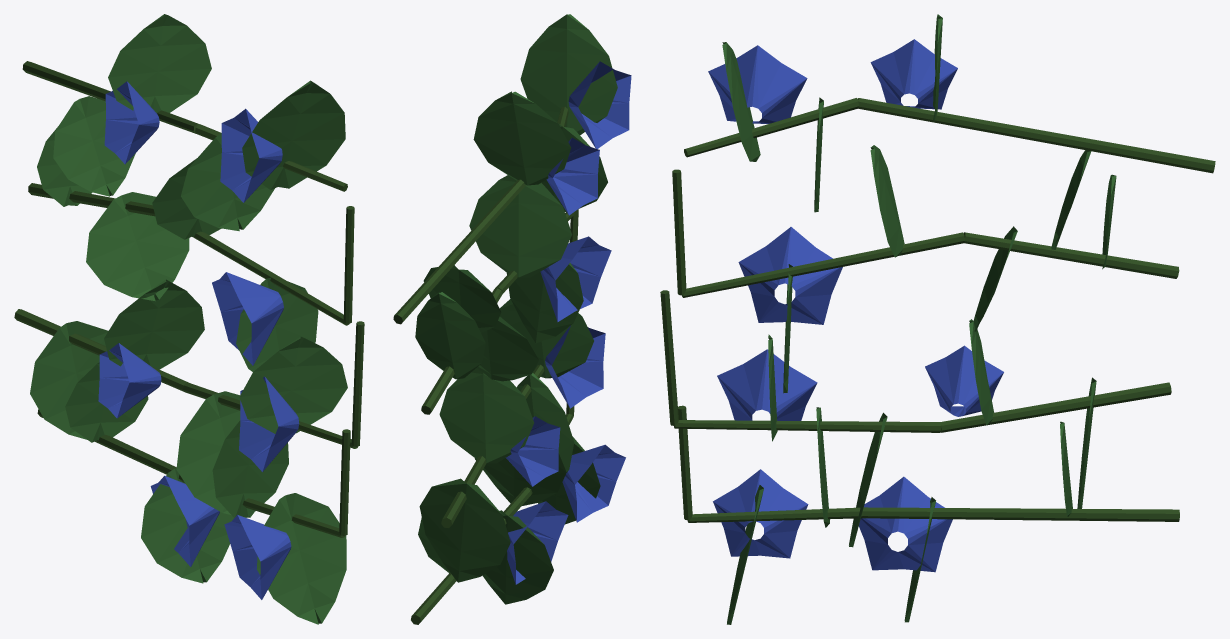
Rendered from VD_DwarfMorningGlory_A.obj.
3 renders of one model, left to right at view 1: azimuth 30°, elevation 25°; view 2: azimuth 150°, elevation 25°; view 3: azimuth 270°, elevation 25°, orthographic. The views are drawn at different scales.
Visible parts, largest first — view 1: VD_DwarfMorningGlory_A; view 2: VD_DwarfMorningGlory_A; view 3: VD_DwarfMorningGlory_A.
Part boxes in pixels (bbox=[...]): VD_DwarfMorningGlory_A: bbox=[14, 14, 364, 624]; VD_DwarfMorningGlory_A: bbox=[393, 14, 631, 624]; VD_DwarfMorningGlory_A: bbox=[660, 14, 1215, 624].
Bounding box in the file's own units: 36.17 × 115 × 97.63.
